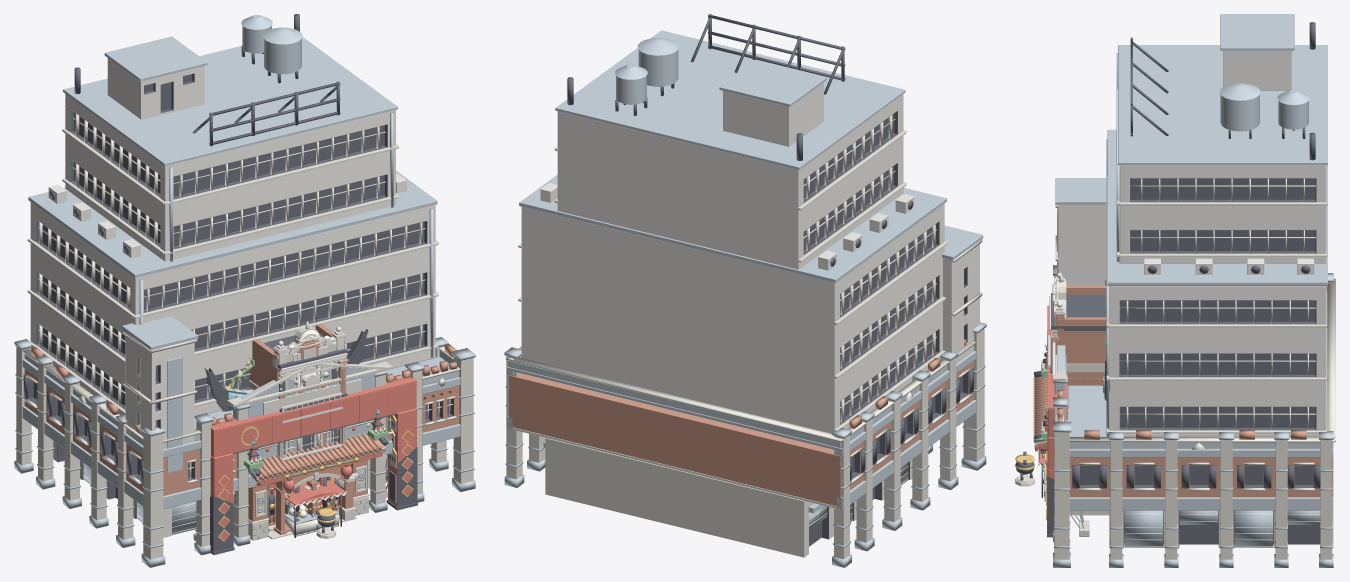
The model's file is bundle-dadao.glb.
The picture shows the model from 3 angles, left to right: view 1: azimuth 30°, elevation 25°; view 2: azimuth 150°, elevation 25°; view 3: azimuth 270°, elevation 25°; orthographic projection. The views are drawn at different scales.
Visible parts, largest first — view 1: main (×4), portal, crest (×3), storey (×2), arcade; view 2: main; view 3: main (×2), crest, portal, storey, baroque_crest.
Boxes of the visible parts, x1,y1,x2,y2 form: main (×4): [14, 14, 475, 567]; portal: [193, 374, 417, 554]; crest (×3): [252, 321, 347, 376]; storey (×2): [250, 350, 348, 423]; arcade: [273, 479, 341, 534]; main: [504, 14, 986, 567]; main (×2): [1015, 14, 1335, 567]; crest: [1051, 279, 1106, 336]; portal: [1046, 305, 1089, 537]; storey: [1050, 331, 1106, 383]; baroque_crest: [1050, 339, 1104, 373].
Size of the model in its own units: 22.56 by 27.65 by 18.63.
